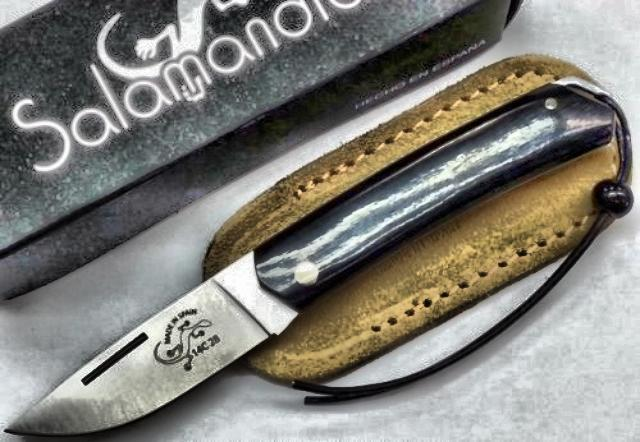knife: (0, 237, 304, 441)
